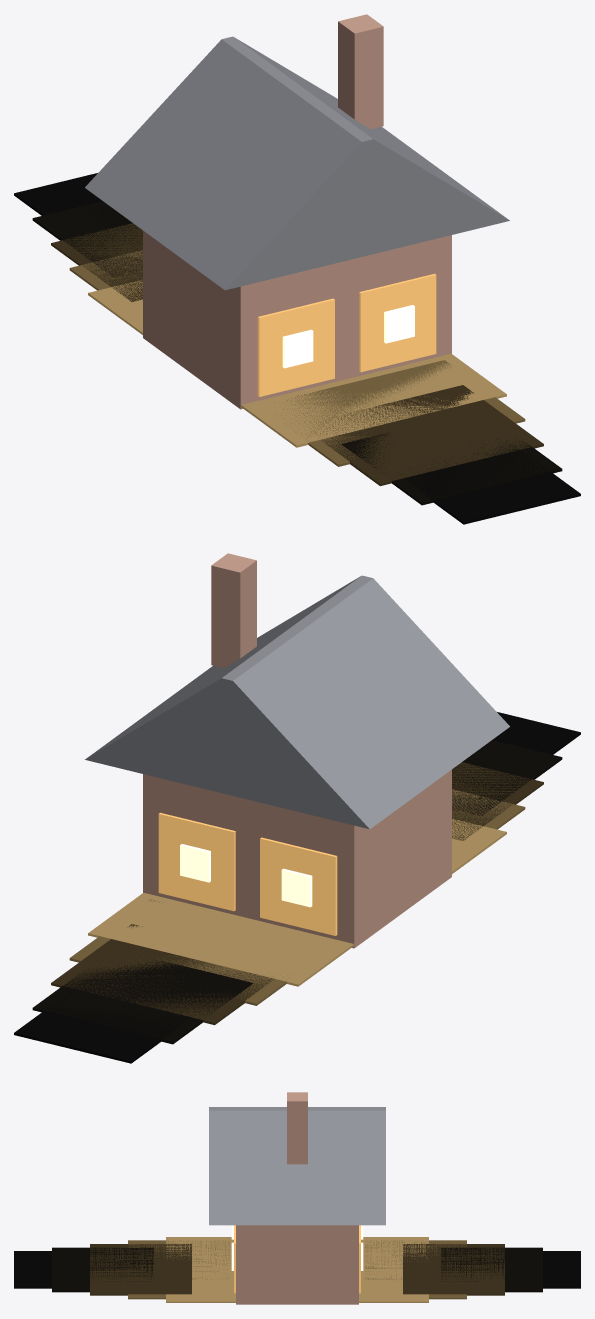
File: vil_cottage_b.glb
3 views of the same model, one above another, from view 1: azimuth 30°, elevation 25°; view 2: azimuth 150°, elevation 25°; view 3: azimuth 270°, elevation 25° (orthographic). The views are drawn at different scales.
Visible parts, largest first — view 1: vil_cottage_b; view 2: vil_cottage_b; view 3: vil_cottage_b.
Boxes of the visible parts, x1,y1,x2,y2 form: vil_cottage_b: [14, 14, 580, 524]; vil_cottage_b: [14, 553, 580, 1063]; vil_cottage_b: [14, 1092, 580, 1304].
Bounding box in the file's own units: 0.7344 × 0.7589 × 2.
